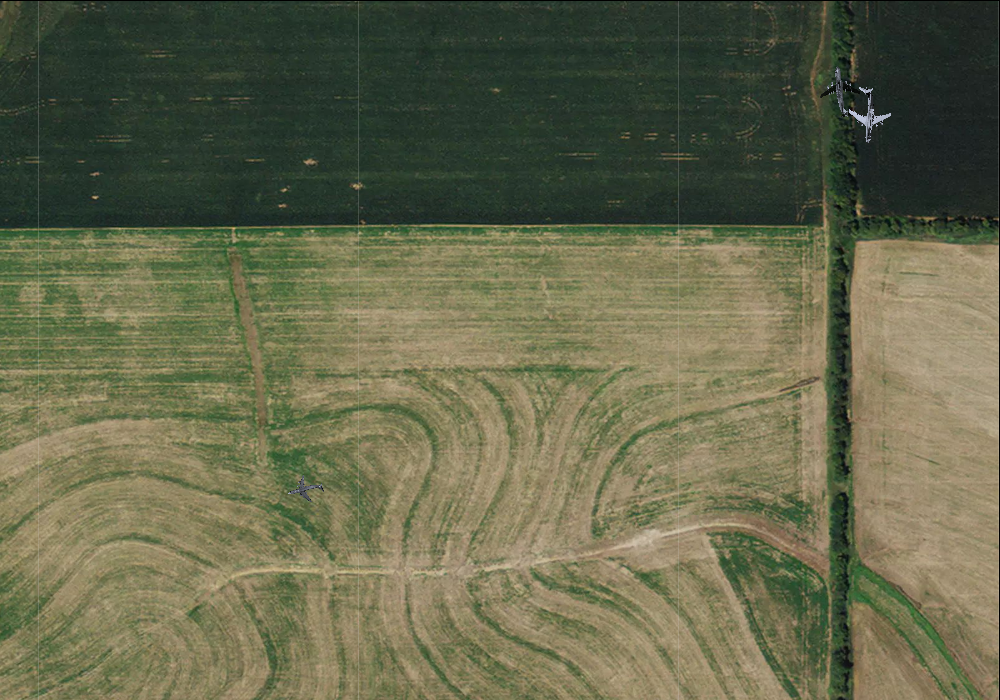plane: (840, 84, 896, 145), (816, 63, 868, 119), (284, 469, 327, 511)
